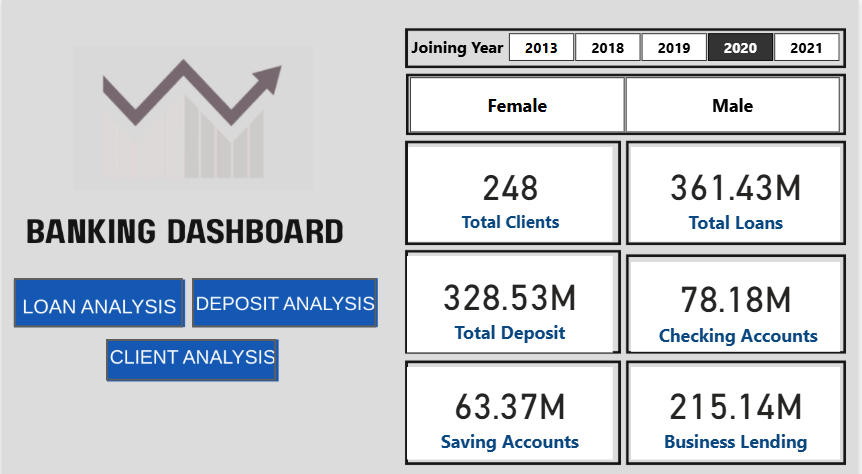

Layout of this report page (visuals, bound fields, positions):
{"tool":"powerbi","page":{"name":"Home","canvas":[1280,720],"ordinal":0},"visuals":[{"type":"card","title":"Total Clients","fields":{"Values":["banking_case customer.Name"]},"box":[607.7,218.9,305.3,141.1],"z":0},{"type":"slicer","fields":{"Values":["banking_case customer.GenderId"]},"box":[589,113.8,681.1,86.4],"z":1000},{"type":"card","fields":{"Values":["banking_case customer.Total Loans"]},"box":[940.3,218.9,312.5,141.1],"z":2000},{"type":"card","fields":{"Values":["banking_case customer.Total Deposit"]},"box":[606.2,381.6,306.7,144],"z":3000},{"type":"card","fields":{"Values":["banking_case customer.Checking Accounts"]},"box":[940.3,391.7,312.5,133.9],"z":4000},{"type":"card","fields":{"Values":["banking_case customer.Business Lending"]},"box":[940.3,547.2,312.5,138.2],"z":5000},{"type":"card","fields":{"Values":["banking_case customer.Saving Accounts"]},"box":[606.2,547.2,306.7,138.2],"z":6000},{"type":"slicer","fields":{"Values":["banking_case customer.Year of Joining"]},"box":[737.3,47.5,532.8,44.6],"z":7000},{"type":"textbox","box":[607.7,47.5,152.6,44.6],"z":8000},{"type":"actionButton","box":[19.7,414.8,252.5,73.8],"z":9000},{"type":"actionButton","box":[285.2,414.8,275.4,73.8],"z":10000},{"type":"actionButton","box":[157.4,506.6,254.1,62.3],"z":11000}]}

Visuals, with their boxes in screenshot pixels (x1, y1, x2, y2), scaled from the page's 1280x720 canvas onto the 862x474 screenshot:
"Total Clients" card: box(409, 144, 615, 237)
slicer - banking_case customer.GenderId: box(397, 75, 855, 132)
card - banking_case customer.Total Loans: box(633, 144, 844, 237)
card - banking_case customer.Total Deposit: box(408, 251, 615, 346)
card - banking_case customer.Checking Accounts: box(633, 258, 844, 346)
card - banking_case customer.Business Lending: box(633, 360, 844, 451)
card - banking_case customer.Saving Accounts: box(408, 360, 615, 451)
slicer - banking_case customer.Year of Joining: box(497, 31, 855, 61)
textbox: box(409, 31, 512, 61)
actionButton: box(13, 273, 183, 322)
actionButton: box(192, 273, 378, 322)
actionButton: box(106, 334, 277, 375)
